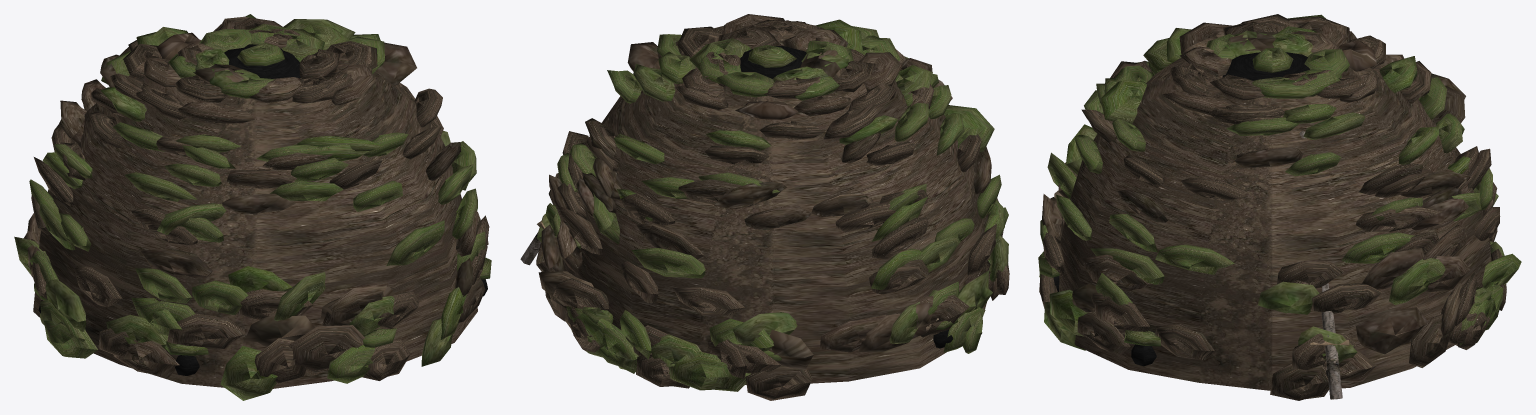
Rendered from kit_tw_clamp_b.glb.
3 views of the same model, side by side, from view 1: azimuth 30°, elevation 25°; view 2: azimuth 150°, elevation 25°; view 3: azimuth 270°, elevation 25° (orthographic).
Visible parts, largest first — view 1: kit_tw_clamp_b; view 2: kit_tw_clamp_b; view 3: kit_tw_clamp_b.
Boxes of the visible parts, box(x1,y1,x2,y2) form: kit_tw_clamp_b: box(14, 14, 491, 400); kit_tw_clamp_b: box(520, 14, 1009, 400); kit_tw_clamp_b: box(1038, 14, 1521, 400).
Bounding box in the file's own units: 3.83 × 2.24 × 3.76.
Materials: 1 (1 with a texture image).
